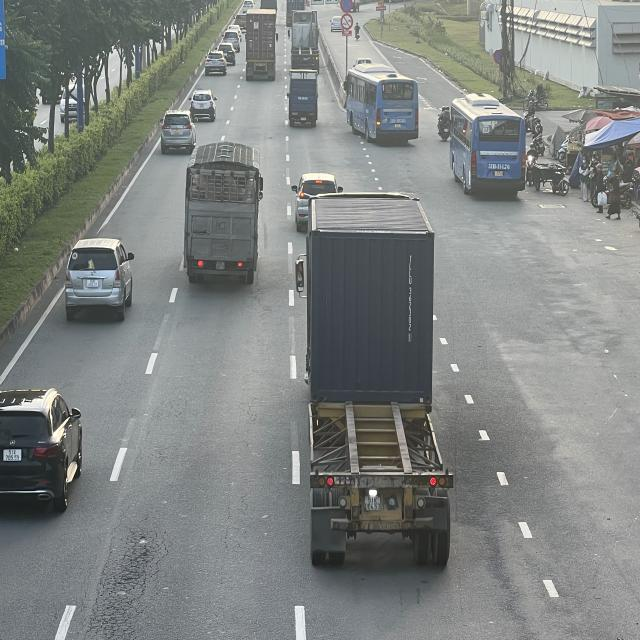car: (0, 385, 82, 513), (64, 238, 135, 321), (162, 110, 200, 155), (189, 90, 216, 123), (204, 53, 228, 77)
coach: (443, 96, 529, 197), (342, 69, 417, 145)
container: (305, 186, 457, 570), (244, 9, 277, 81), (287, 14, 319, 69)
truck: (184, 143, 266, 286), (285, 68, 318, 125)
